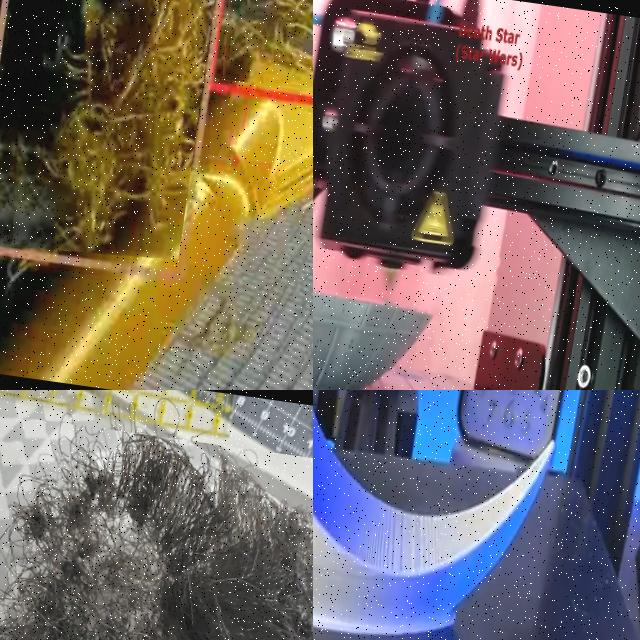spaghetti: (0, 408, 313, 640), (0, 0, 229, 269), (213, 0, 313, 107)
